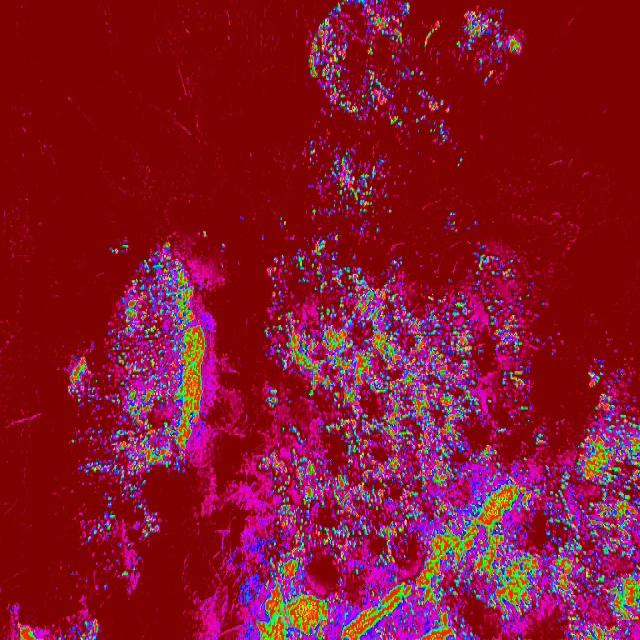fire: (266, 241, 536, 640), (112, 236, 220, 470), (64, 348, 160, 596), (575, 364, 640, 640), (304, 0, 438, 126), (536, 420, 574, 640), (304, 147, 392, 231), (238, 450, 265, 640), (458, 12, 520, 88), (12, 602, 98, 640)
